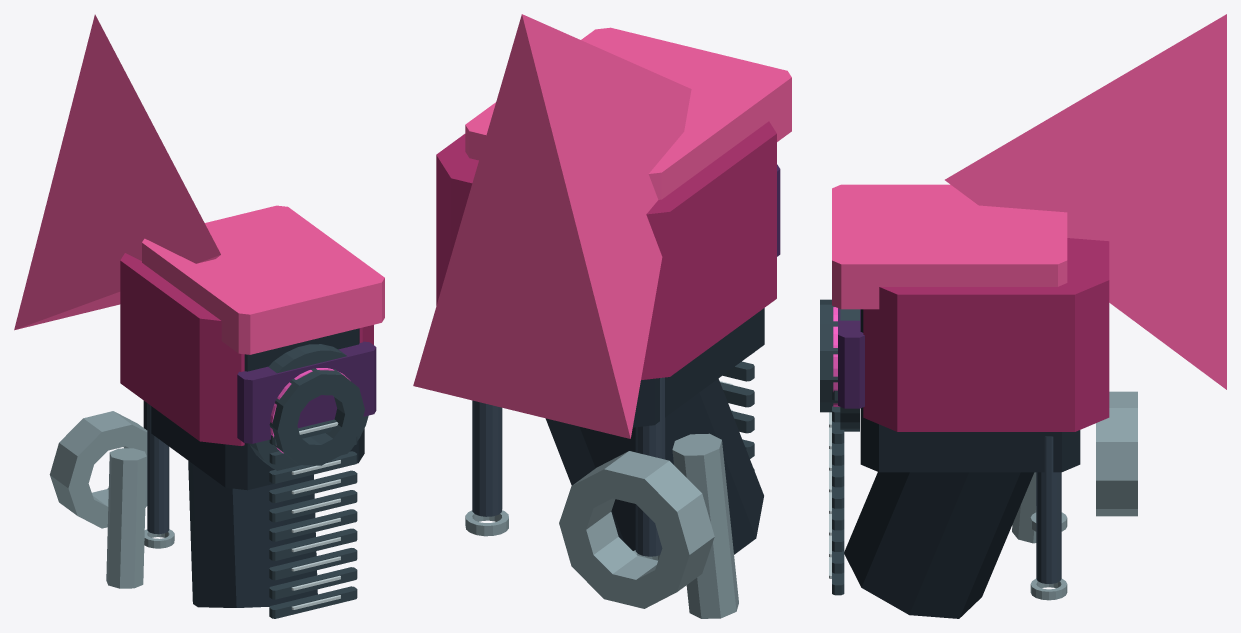
File: enemy_striker_4k_upper_arm_l.obj
3 views of the same model, side by side, from view 1: azimuth 30°, elevation 25°; view 2: azimuth 150°, elevation 25°; view 3: azimuth 270°, elevation 25° (orthographic). The views are drawn at different scales.
Size of the model in its own units: 0.535 by 1.21 by 0.7775.
